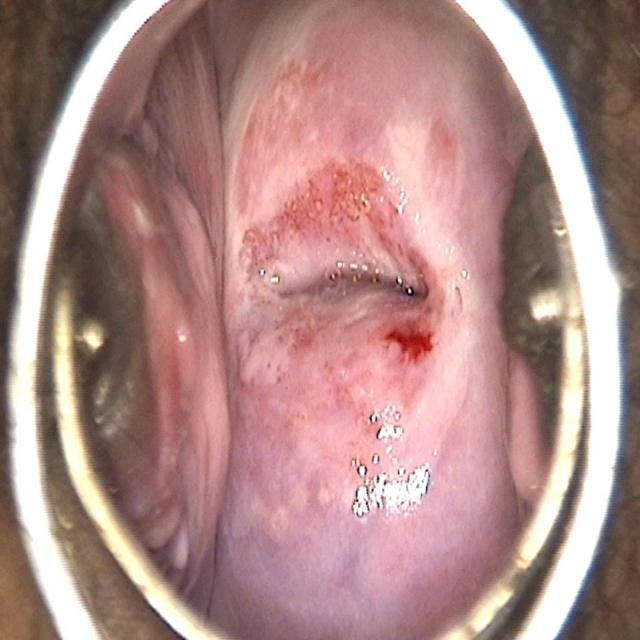cervical_lesion: (217, 165, 475, 542)
